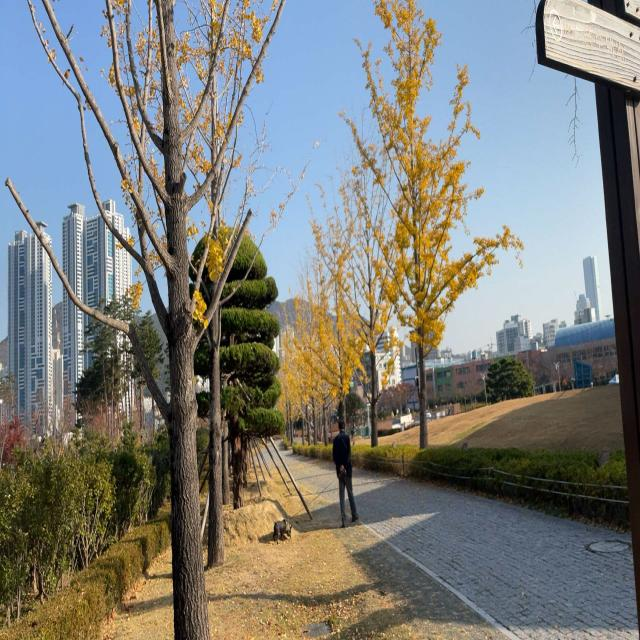Leashed_Dog: (272, 471, 342, 545)
